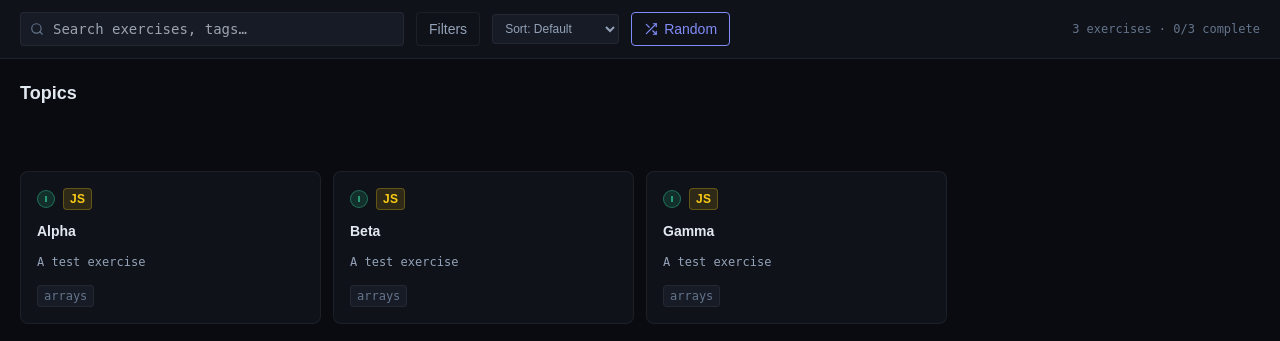
Scenario: Status Sort › includes statusSort in hasActiveFilters (shows Clear button)
The image size is (1280, 341).
Expected: the text "Clear" is not shown
Change sort
Step 1. Select "Completed First" in the dropdown named "Sort by status" → (556, 29), box [492,14,619,44]
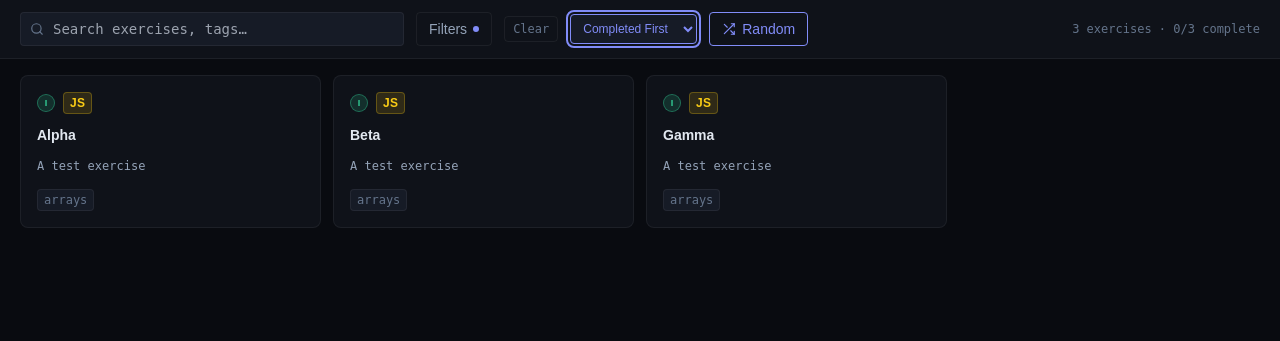
Now the button "Clear" is shown, box [504,16,558,42]
